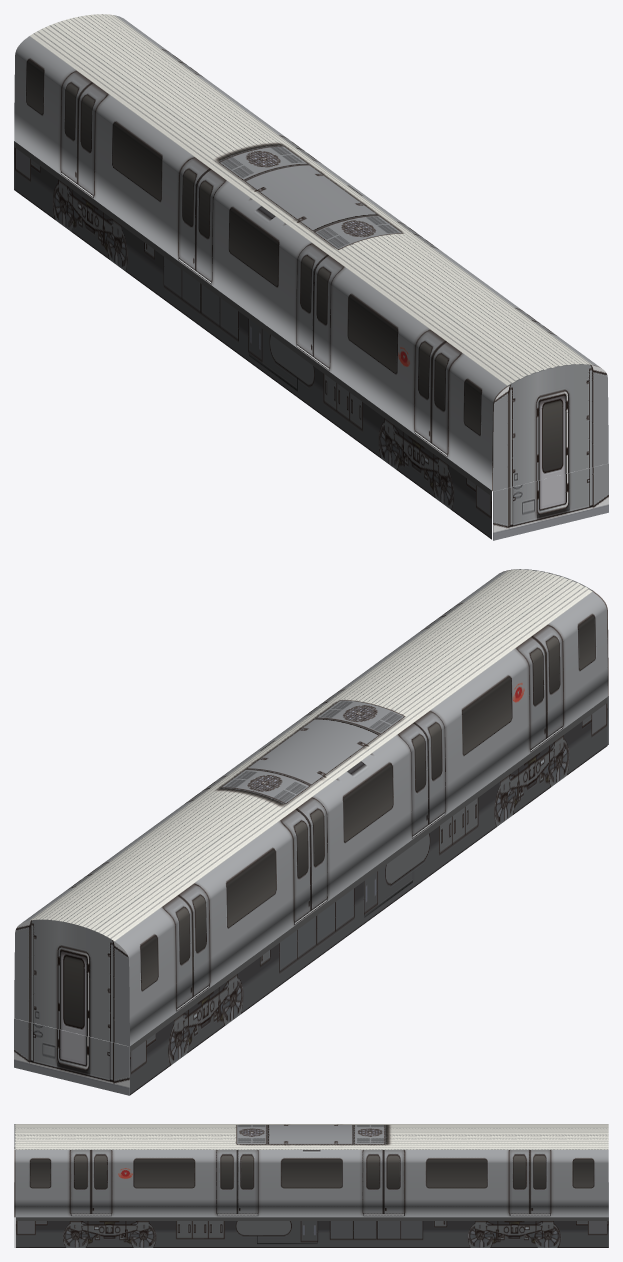
Rendered from car3.glb.
The picture shows the model from 3 angles, top to bottom: view 1: azimuth 30°, elevation 25°; view 2: azimuth 150°, elevation 25°; view 3: azimuth 270°, elevation 25°; orthographic projection. The views are drawn at different scales.
Visible parts, largest first — view 1: tokyu-3020-car3; view 2: tokyu-3020-car3; view 3: tokyu-3020-car3.
Part boxes in pixels (bbox=[...]): tokyu-3020-car3: bbox=[14, 14, 608, 540]; tokyu-3020-car3: bbox=[14, 569, 608, 1095]; tokyu-3020-car3: bbox=[14, 1124, 608, 1247].
Bounding box in the file's own units: 2.79 × 3.64 × 20.03.
Materials: 9 (8 with a texture image).
